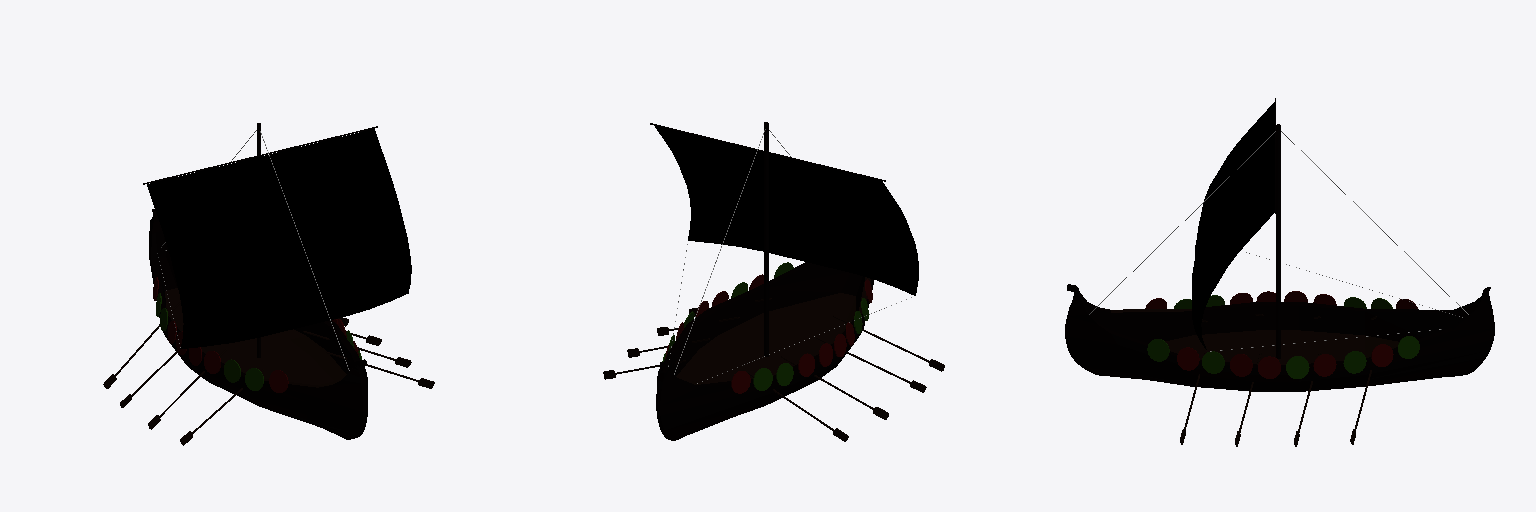
File: boat.obj
3 renders of one model, left to right at view 1: azimuth 30°, elevation 25°; view 2: azimuth 150°, elevation 25°; view 3: azimuth 270°, elevation 25°, orthographic.
Visible parts, largest first — view 1: group1 pPlane1, group1 pCube1; view 2: group1 pPlane1, group1 pCube1, pCylinder1 group1; view 3: group1 pCube1, group1 pPlane1, pCylinder1 group1.
Boxes of the visible parts, x1,y1,x2,y2 form: group1 pPlane1: [147, 129, 411, 348]; group1 pCube1: [149, 220, 367, 439]; group1 pPlane1: [655, 126, 918, 295]; group1 pCube1: [656, 262, 873, 440]; pCylinder1 group1: [764, 122, 768, 356]; group1 pCube1: [1065, 293, 1494, 391]; group1 pPlane1: [1192, 102, 1274, 349]; pCylinder1 group1: [1276, 124, 1280, 358].
Size of the model in its own units: 2342 by 2218 by 3273.